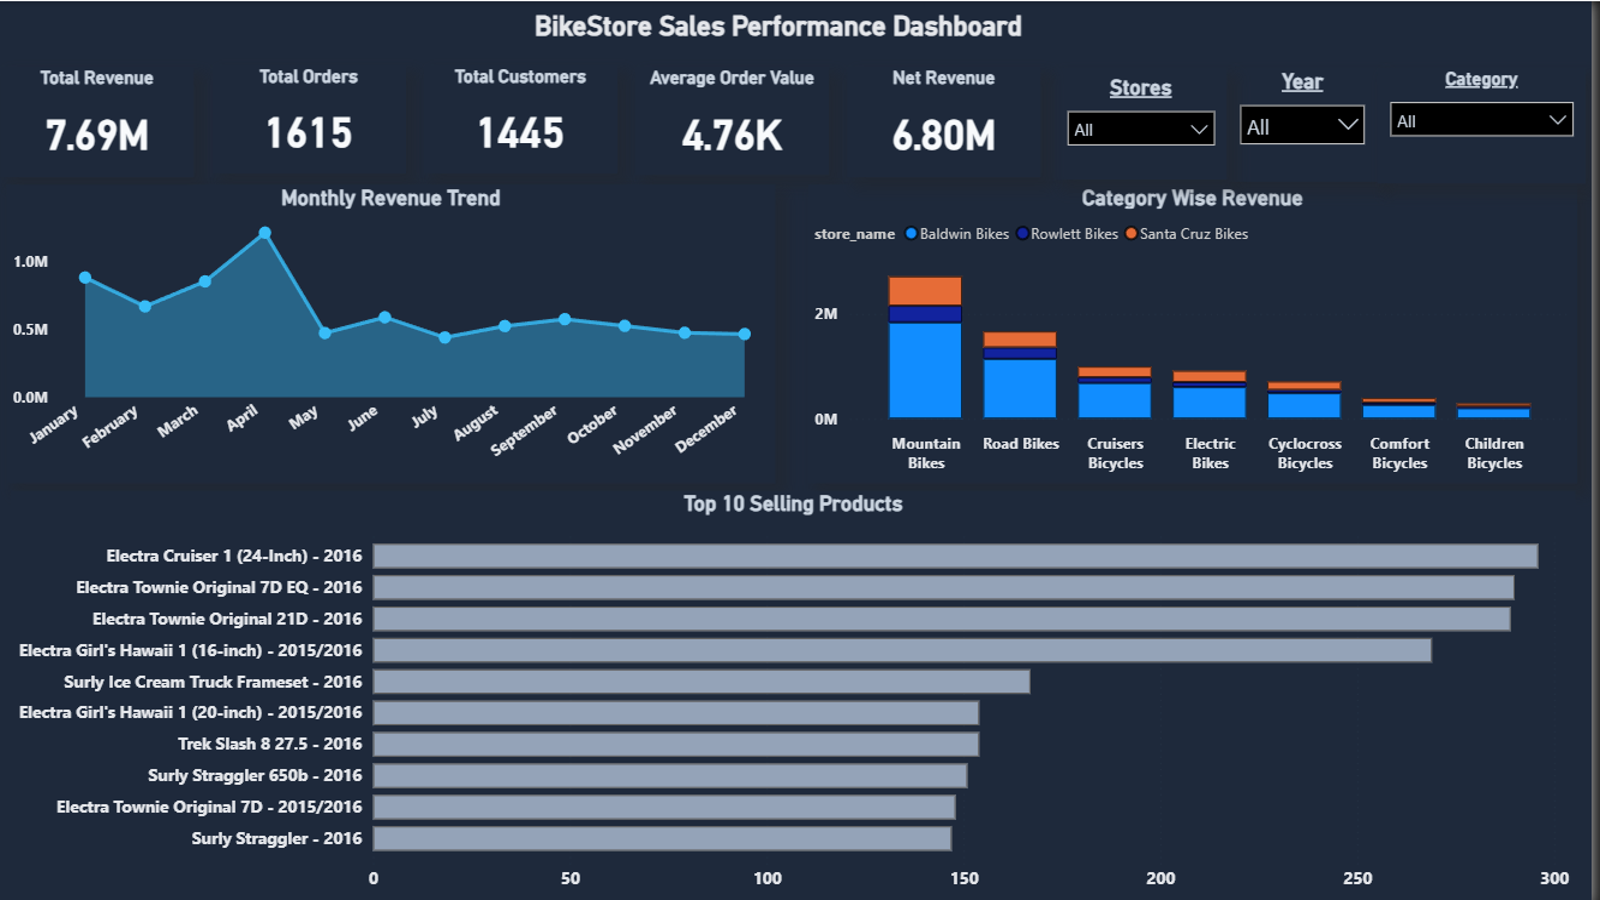

What the dashboard file says about the page in this screenshot:
{"tool":"powerbi","page":{"name":"BikeStore Sales Performance Dashboard","canvas":[1280,720],"ordinal":0},"visuals":[{"type":"card","title":"Total Revenue","fields":{"Values":["Measure.Total Revenue"]},"box":[2.7,51.4,155,87.8],"z":0},{"type":"card","title":"Total Orders","fields":{"Values":["Measure.Total_Orders"]},"box":[172.9,50.8,155,86.4],"z":1000},{"type":"card","title":"Total Customers","fields":{"Values":["Measure.Total_Customers"]},"box":[343.1,50.8,155,86.4],"z":2000},{"type":"card","title":"Average Order Value","fields":{"Values":["Measure.Average_Order_Value"]},"box":[513.2,52.1,155,86.4],"z":3000},{"type":"lineChart","title":"Monthly Revenue Trend","fields":{"Category":["orders.order_date.Variation.Date Hierarchy.Month"],"Y":["Measure.Total Revenue"]},"box":[6.9,146.4,617.5,237.4],"z":4000},{"type":"columnChart","title":"Category Wise Revenue","fields":{"Category":["categories.category_name"],"Y":["Measure.Total Revenue"],"Series":["stores.store_name"]},"box":[651.8,145.8,617.5,237.4],"z":5000},{"type":"clusteredBarChart","title":"Top 10 Selling Products","fields":{"Category":["products.product_name"],"Y":["Measure.Total_Quantity_Sold"]},"box":[11,389.7,1257,328],"z":6000},{"type":"slicer","title":"Year","fields":{"Values":["orders.Year"]},"box":[987.7,53.3,120.8,90.6],"z":7000},{"type":"slicer","title":"Category","fields":{"Values":["categories.category_name"]},"box":[1108.8,53.5,167.4,91.9],"z":8000},{"type":"slicer","title":"Stores","fields":{"Values":["stores.store_name"]},"box":[849.1,53.3,138.6,89.2],"z":9000},{"type":"card","title":"Net Revenue","fields":{"Values":["Measure.Net_revenue"]},"box":[683.4,52.1,155,87.8],"z":10000},{"type":"textbox","title":"BikeStore Sales Performance Dashboard","box":[405.4,7.2,444,31.4],"z":11000}]}

Visuals, with their boxes in screenshot pixels (x1, y1, x2, y2), scaled from the page's 1280x720 canvas onto the 1600x900 screenshot:
"Total Revenue" card: (left=3, top=64, right=197, bottom=174)
"Total Orders" card: (left=216, top=64, right=410, bottom=172)
"Total Customers" card: (left=429, top=64, right=623, bottom=172)
"Average Order Value" card: (left=642, top=65, right=835, bottom=173)
"Monthly Revenue Trend" lineChart: (left=9, top=183, right=780, bottom=480)
"Category Wise Revenue" columnChart: (left=815, top=182, right=1587, bottom=479)
"Top 10 Selling Products" clusteredBarChart: (left=14, top=487, right=1585, bottom=897)
"Year" slicer: (left=1235, top=67, right=1386, bottom=180)
"Category" slicer: (left=1386, top=67, right=1595, bottom=182)
"Stores" slicer: (left=1061, top=67, right=1235, bottom=178)
"Net Revenue" card: (left=854, top=65, right=1048, bottom=175)
"BikeStore Sales Performance Dashboard" textbox: (left=507, top=9, right=1062, bottom=48)
